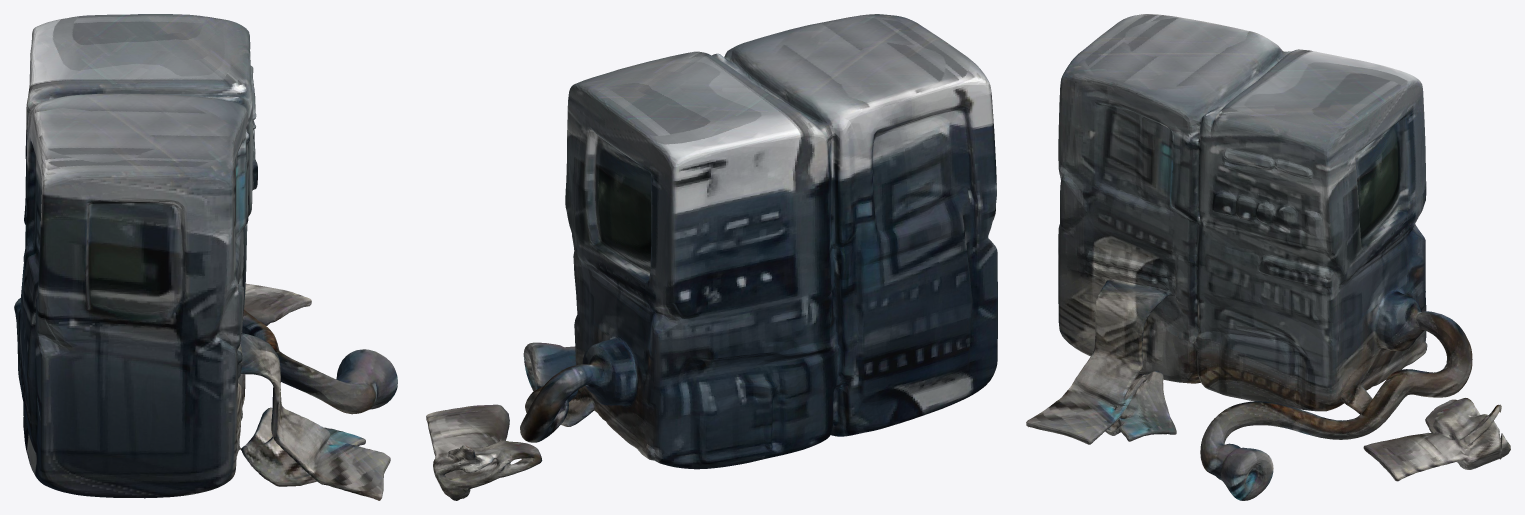
The model's file is data_on_infinity.glb.
The picture shows the model from 3 angles, left to right: view 1: azimuth 30°, elevation 25°; view 2: azimuth 150°, elevation 25°; view 3: azimuth 270°, elevation 25°; orthographic projection. The views are drawn at different scales.
Size of the model in its own units: 1.75 by 1.5 by 1.99.
Materials: 1 (1 with a texture image).
